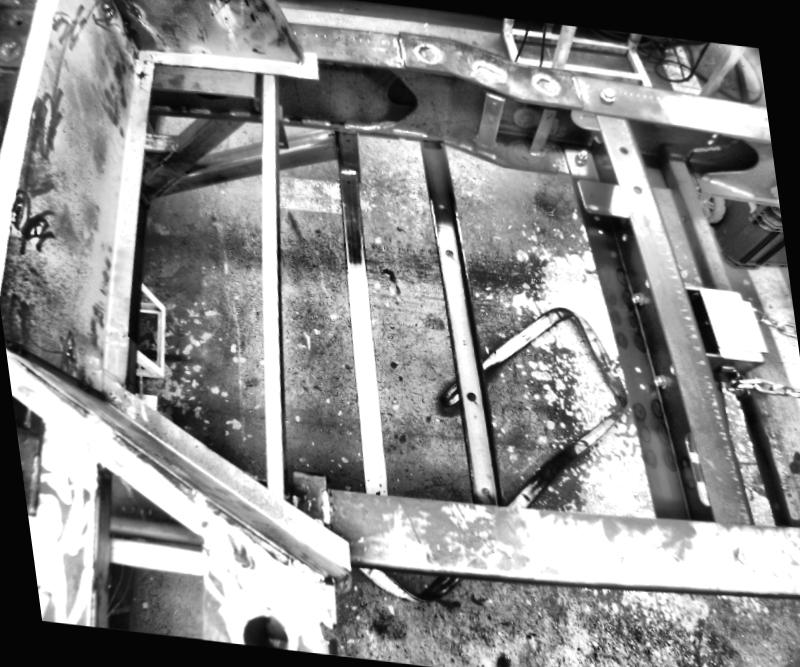bolt: (724, 538, 762, 566), (594, 80, 616, 103), (572, 146, 589, 165), (650, 371, 668, 388), (628, 289, 644, 305)
bracket: (284, 456, 343, 515), (468, 85, 508, 155), (516, 98, 559, 162), (572, 175, 631, 217), (268, 100, 294, 152)
hole: (238, 607, 288, 647), (462, 387, 478, 401), (476, 482, 490, 496), (616, 144, 628, 155), (632, 363, 644, 373), (630, 181, 640, 192), (616, 229, 626, 240), (434, 200, 443, 210), (442, 247, 452, 256), (636, 380, 644, 390), (594, 226, 602, 236), (343, 176, 351, 184), (276, 140, 284, 145), (588, 192, 595, 197), (325, 130, 332, 135), (341, 135, 347, 140), (590, 214, 596, 218)
